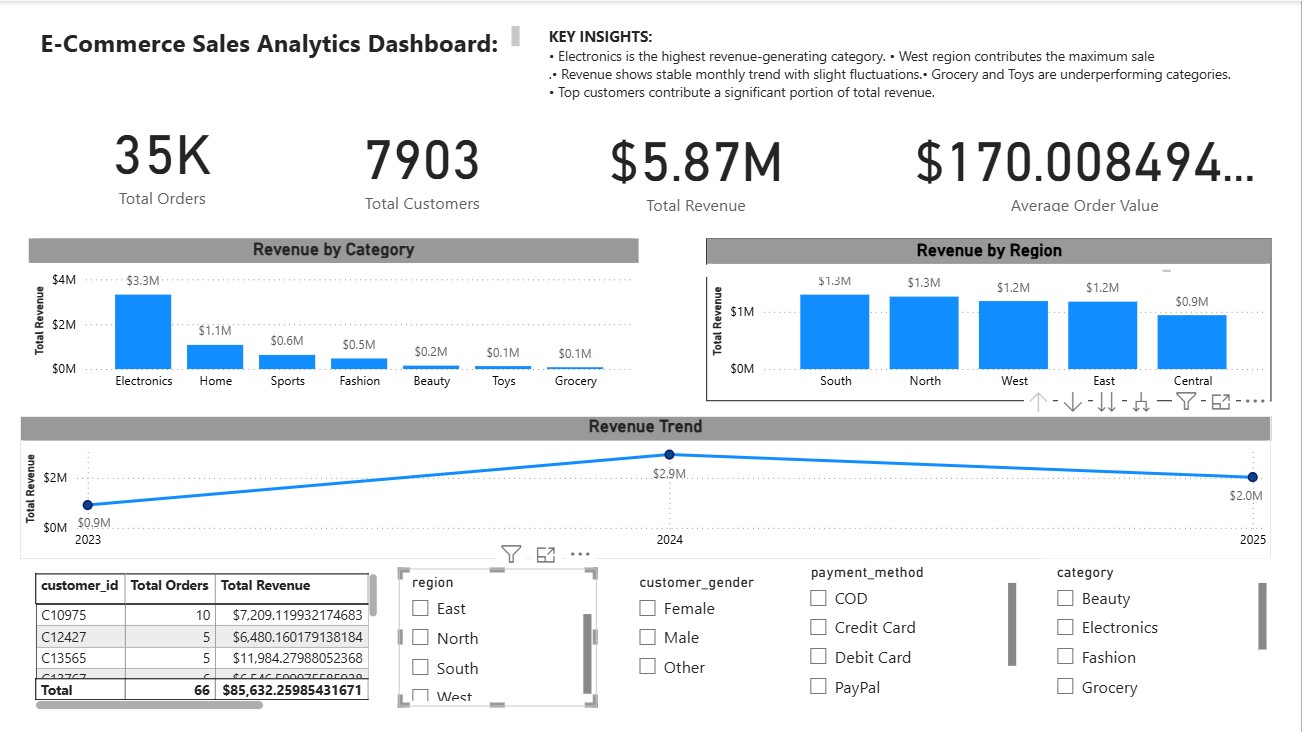

This screenshot's page, from the dashboard's own definition file:
{"tool":"powerbi","page":{"name":"Page 1","canvas":[1280,720],"ordinal":0},"visuals":[{"type":"card","fields":{"Values":["ecommerce_sales.Total Revenue"]},"box":[559.6,100.8,250.9,121.8],"z":0},{"type":"card","fields":{"Values":["ecommerce_sales.Total Orders"]},"box":[44.3,97.2,231.2,115.6],"z":1},{"type":"card","fields":{"Values":["ecommerce_sales.Total Customers"]},"box":[296.4,97.2,238.6,125.4],"z":2},{"type":"card","fields":{"Values":["ecommerce_sales.Average Order Value"]},"box":[889.2,110.7,356.6,102.1],"z":3},{"type":"clusteredColumnChart","title":"Revenue by Category","fields":{"Category":["ecommerce_sales.category"],"Y":["ecommerce_sales.Total Revenue"]},"box":[28.3,233.7,600.2,158.6],"z":4},{"type":"slicer","fields":{"Values":["ecommerce_sales.region"]},"box":[392.3,558.3,194.3,135.3],"z":6},{"type":"slicer","fields":{"Values":["ecommerce_sales.payment_method"]},"box":[784.6,548.5,220.1,148.8],"z":7},{"type":"slicer","fields":{"Values":["ecommerce_sales.customer_gender"]},"box":[616.1,558.3,158.6,135.3],"z":8},{"type":"clusteredColumnChart","title":"Revenue by Region","fields":{"Category":["ecommerce_sales.region"],"Y":["ecommerce_sales.Total Revenue"]},"box":[694.9,233.7,555.9,159.9],"z":9},{"type":"lineChart","title":"Revenue Trend","fields":{"Category":["ecommerce_sales.order_date.Variation.Date Hierarchy.Year","ecommerce_sales.order_date.Variation.Date Hierarchy.Month"],"Y":["ecommerce_sales.Total Revenue"]},"box":[19.7,408.3,1231.1,140.2],"z":11},{"type":"tableEx","fields":{"Values":["ecommerce_sales.customer_id","ecommerce_sales.Total Orders","ecommerce_sales.Total Revenue","ecommerce_sales.Average Order Value"]},"box":[28.3,558.3,348,143.9],"z":12},{"type":"slicer","fields":{"Values":["ecommerce_sales.category"]},"box":[1026.9,548.5,223.8,145.1],"z":13},{"type":"textbox","box":[544.8,259.5,612.5,12.3],"z":14},{"type":"textbox","box":[535,19.7,715.8,83.6],"z":15},{"type":"textbox","box":[34.4,19.7,482.1,55.3],"z":16}]}

Visuals, with their boxes in screenshot pixels (x1, y1, x2, y2), scaled from the page's 1280x720 canvas onto the 1302x732 screenshot:
card - ecommerce_sales.Total Revenue: (569, 102, 824, 226)
card - ecommerce_sales.Total Orders: (45, 99, 280, 216)
card - ecommerce_sales.Total Customers: (301, 99, 544, 226)
card - ecommerce_sales.Average Order Value: (904, 113, 1267, 216)
"Revenue by Category" clusteredColumnChart: (29, 238, 639, 399)
slicer - ecommerce_sales.region: (399, 568, 597, 705)
slicer - ecommerce_sales.payment_method: (798, 558, 1022, 709)
slicer - ecommerce_sales.customer_gender: (627, 568, 788, 705)
"Revenue by Region" clusteredColumnChart: (707, 238, 1272, 400)
"Revenue Trend" lineChart: (20, 415, 1272, 558)
tableEx - ecommerce_sales.customer_id x ecommerce_sales.Total Orders: (29, 568, 383, 714)
slicer - ecommerce_sales.category: (1045, 558, 1272, 705)
textbox: (554, 264, 1177, 276)
textbox: (544, 20, 1272, 105)
textbox: (35, 20, 525, 76)
